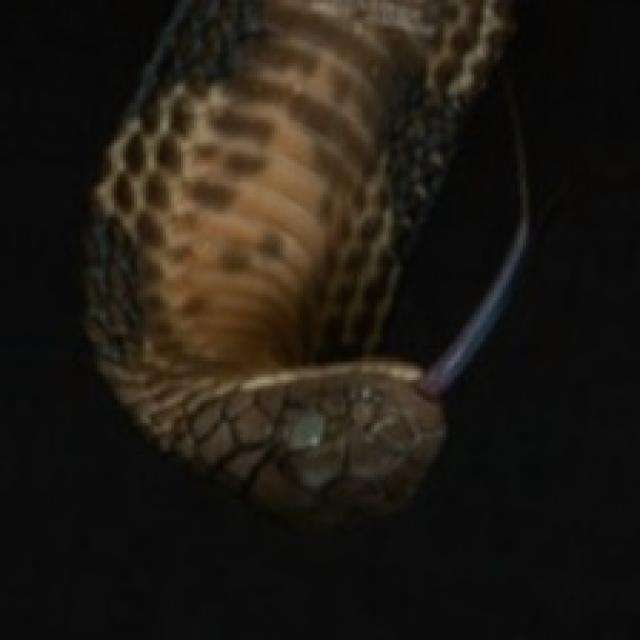king cobra: (86, 0, 509, 520)
